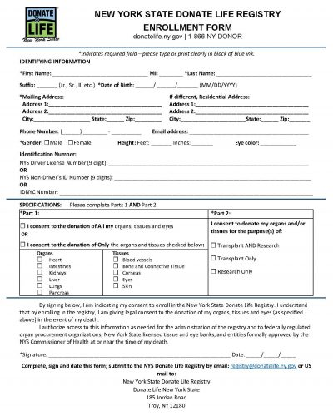checkbox: (43, 137, 51, 146), (36, 281, 45, 289), (111, 281, 119, 289), (18, 221, 27, 228), (111, 255, 120, 262), (36, 261, 44, 268), (36, 273, 43, 281), (36, 287, 43, 295), (111, 268, 119, 275), (210, 254, 217, 262), (210, 267, 217, 275), (210, 241, 216, 250), (36, 268, 43, 275), (111, 262, 119, 268), (111, 275, 119, 281), (67, 138, 73, 145), (19, 240, 26, 246), (37, 255, 43, 262)
textline: (57, 186, 313, 197), (107, 156, 310, 168), (113, 173, 311, 184), (47, 349, 231, 360), (47, 100, 163, 110), (214, 68, 314, 78), (187, 128, 312, 136), (47, 108, 163, 116), (195, 101, 310, 109), (60, 126, 143, 137), (52, 68, 147, 77), (195, 109, 310, 116), (245, 347, 300, 361), (134, 80, 199, 90), (180, 116, 245, 124), (32, 116, 90, 124), (111, 128, 143, 138), (259, 139, 298, 147), (157, 66, 182, 77), (60, 127, 82, 138), (134, 116, 164, 124), (176, 81, 199, 91), (150, 137, 173, 147), (156, 80, 176, 91), (83, 127, 107, 136), (191, 139, 215, 148), (36, 81, 57, 91), (288, 116, 311, 125), (280, 349, 296, 361), (135, 80, 152, 91), (263, 349, 280, 360), (105, 116, 126, 124), (246, 349, 260, 360), (260, 116, 279, 124)
